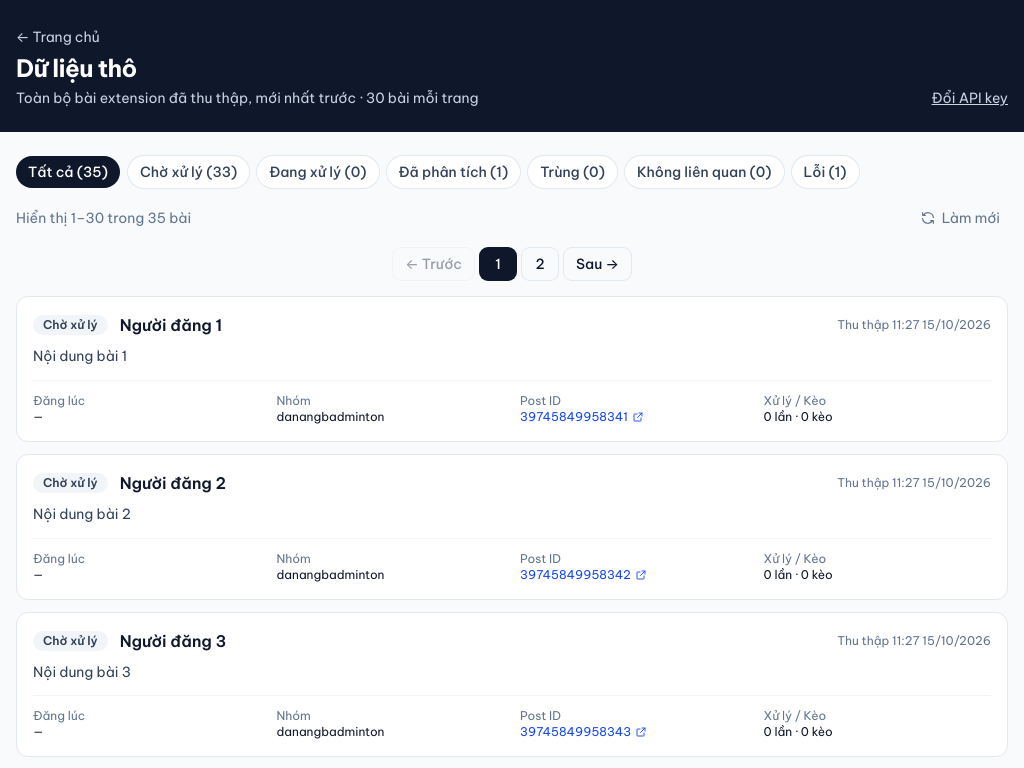
Scenario: RawPostsPage › pages through results and mirrors the page in the URL
This screenshot has width=1024, height=768.
Expected: the text "Hiển thị 1–30 trong 35 bài" is shown, 16,208 -> 191,228
Click the button "Sau →".
click(597, 264)  # box 564,248 -> 631,280
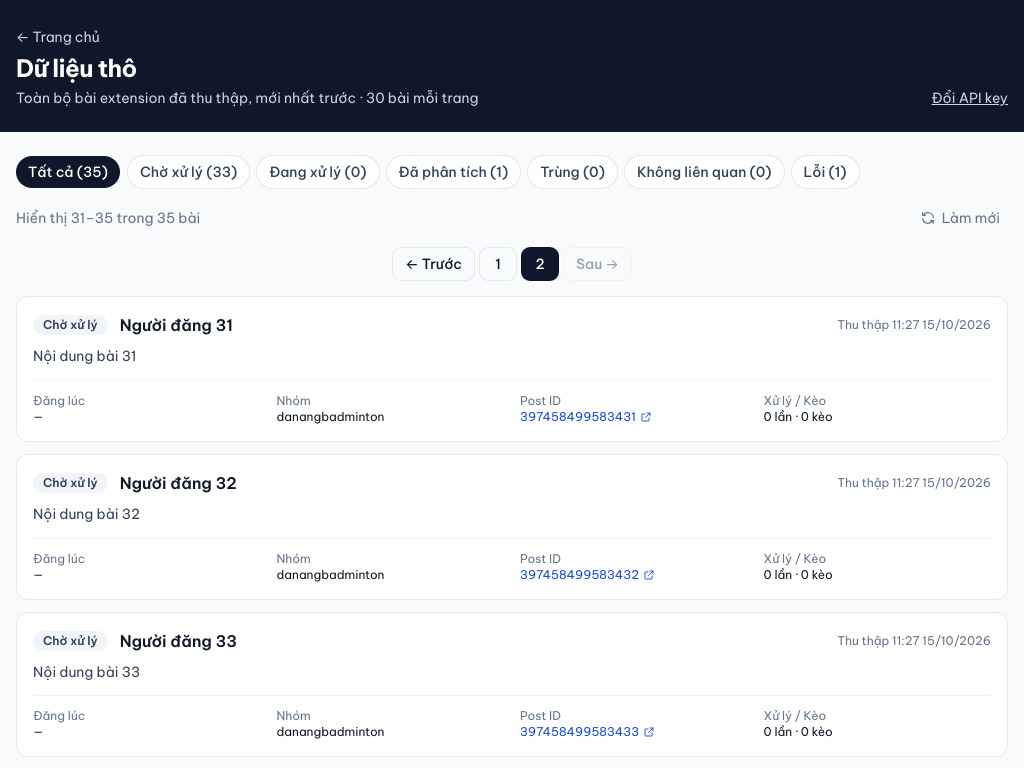
Result: the text "Hiển thị 31–35 trong 35 bài" is shown at 16,208 -> 200,228
